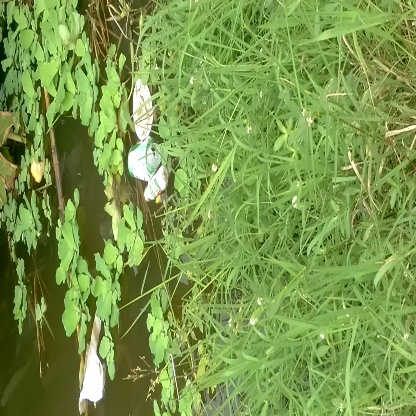bottle: (122, 139, 171, 183)
